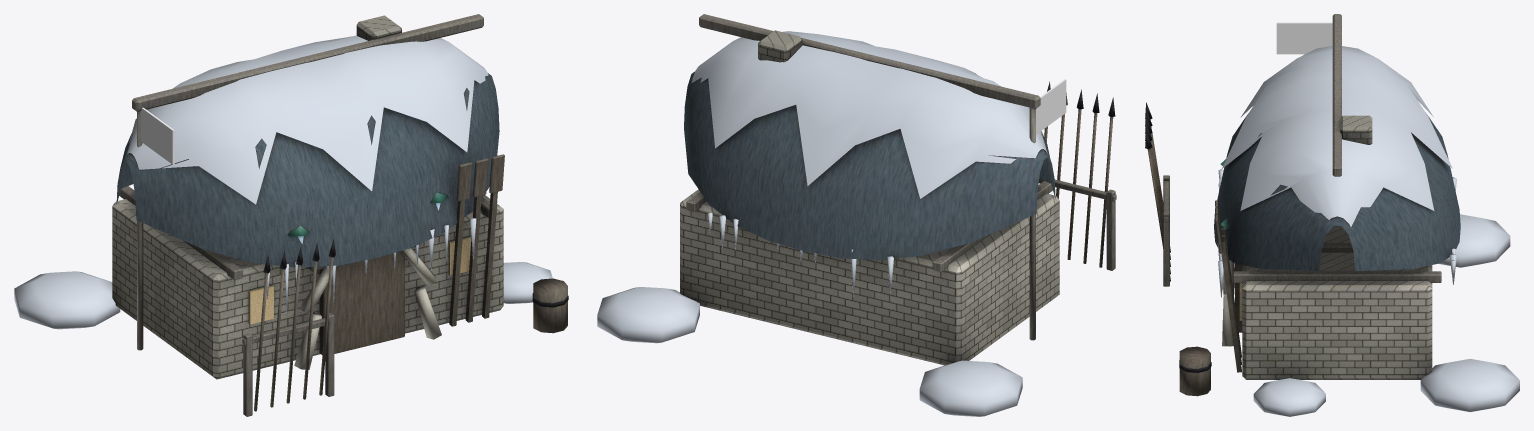
Rendered from salz_barracks.glb.
3 renders of one model, left to right at view 1: azimuth 30°, elevation 25°; view 2: azimuth 150°, elevation 25°; view 3: azimuth 270°, elevation 25°, orthographic. The views are drawn at different scales.
Parts seen in each view (by area): view 1: salz_barracks, Schnee, Fahne1; view 2: salz_barracks, Schnee, Fahne1; view 3: salz_barracks, Schnee, Fahne1.
Part boxes in pixels (<box>): salz_barracks: <box>112,14,568,416</box>; Schnee: <box>14,35,552,329</box>; Fahne1: <box>140,107,174,164</box>; salz_barracks: <box>680,14,1116,365</box>; Schnee: <box>597,31,1047,416</box>; Fahne1: <box>1036,79,1066,134</box>; salz_barracks: <box>1145,14,1460,396</box>; Schnee: <box>1217,46,1519,416</box>; Fahne1: <box>1276,22,1332,54</box>.
Size of the model in its own units: 4.8 by 2.9 by 3.95.
3 materials, 1 textured.
